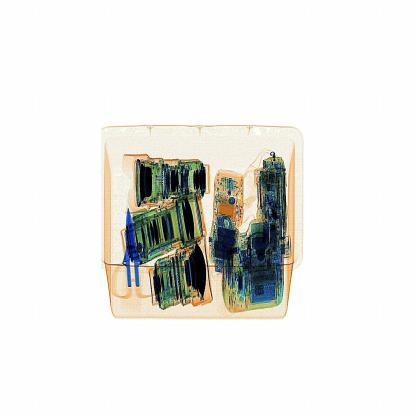gun: (102, 196, 167, 315)
